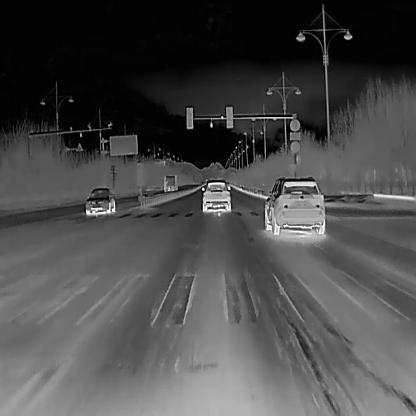car: (263, 175, 325, 235), (200, 178, 230, 212), (84, 186, 114, 216)
truck: (163, 174, 176, 192)
